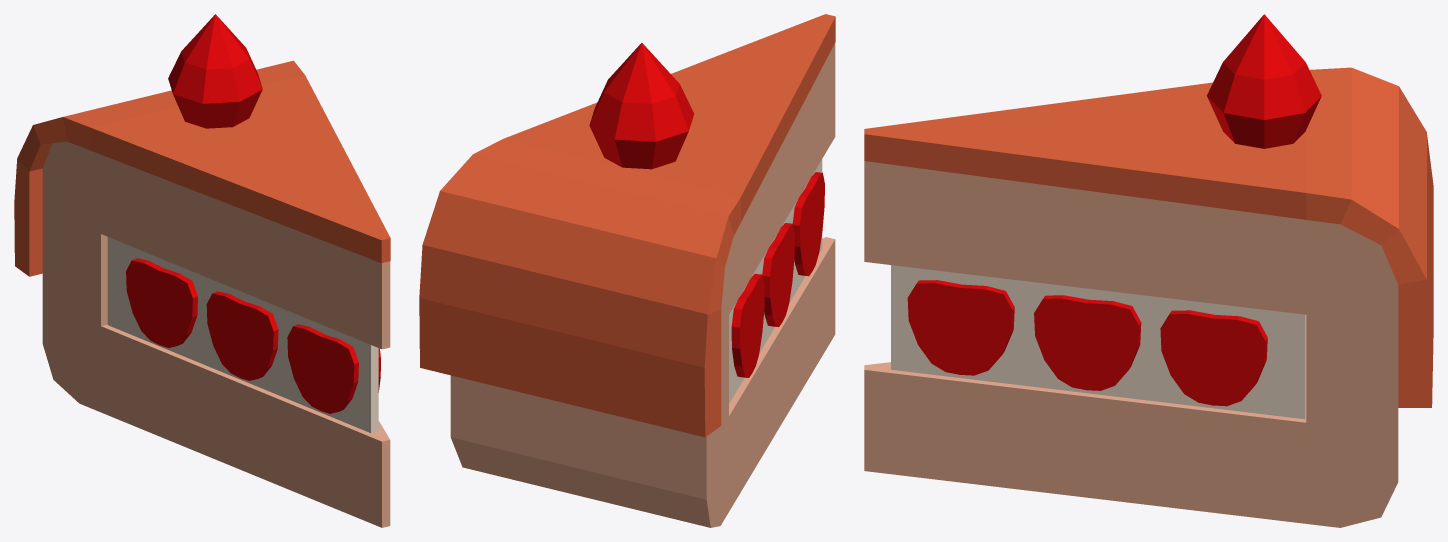
The model's file is Cake.glb.
3 renders of one model, left to right at view 1: azimuth 30°, elevation 25°; view 2: azimuth 150°, elevation 25°; view 3: azimuth 270°, elevation 25°, orthographic. The views are drawn at different scales.
Visible parts, largest first — view 1: Plane.022, Plane.024, Plane.025, Plane.023, Sphere.001; view 2: Plane.024, Plane.022, Sphere.001, Plane.025, Plane.023; view 3: Plane.022, Plane.024, Plane.025, Plane.023, Sphere.001.
Part boxes in pixels (left/top/right/bottom): Plane.022: left=42, top=141, right=390, bottom=527; Plane.024: left=14, top=60, right=390, bottom=276; Plane.025: left=126, top=258, right=380, bottom=413; Plane.023: left=107, top=237, right=378, bottom=433; Sphere.001: left=168, top=14, right=262, bottom=128; Plane.024: left=419, top=14, right=835, bottom=437; Plane.022: left=450, top=43, right=835, bottom=527; Sphere.001: left=589, top=43, right=694, bottom=169; Plane.025: left=731, top=172, right=824, bottom=377; Plane.023: left=729, top=159, right=822, bottom=403; Plane.022: left=864, top=161, right=1398, bottom=527; Plane.024: left=864, top=67, right=1433, bottom=407; Plane.025: left=907, top=280, right=1267, bottom=406; Plane.023: left=891, top=265, right=1305, bottom=419; Sphere.001: left=1207, top=14, right=1321, bottom=148.
Bounding box in the file's own units: 0.1942 × 0.2793 × 0.3168.
